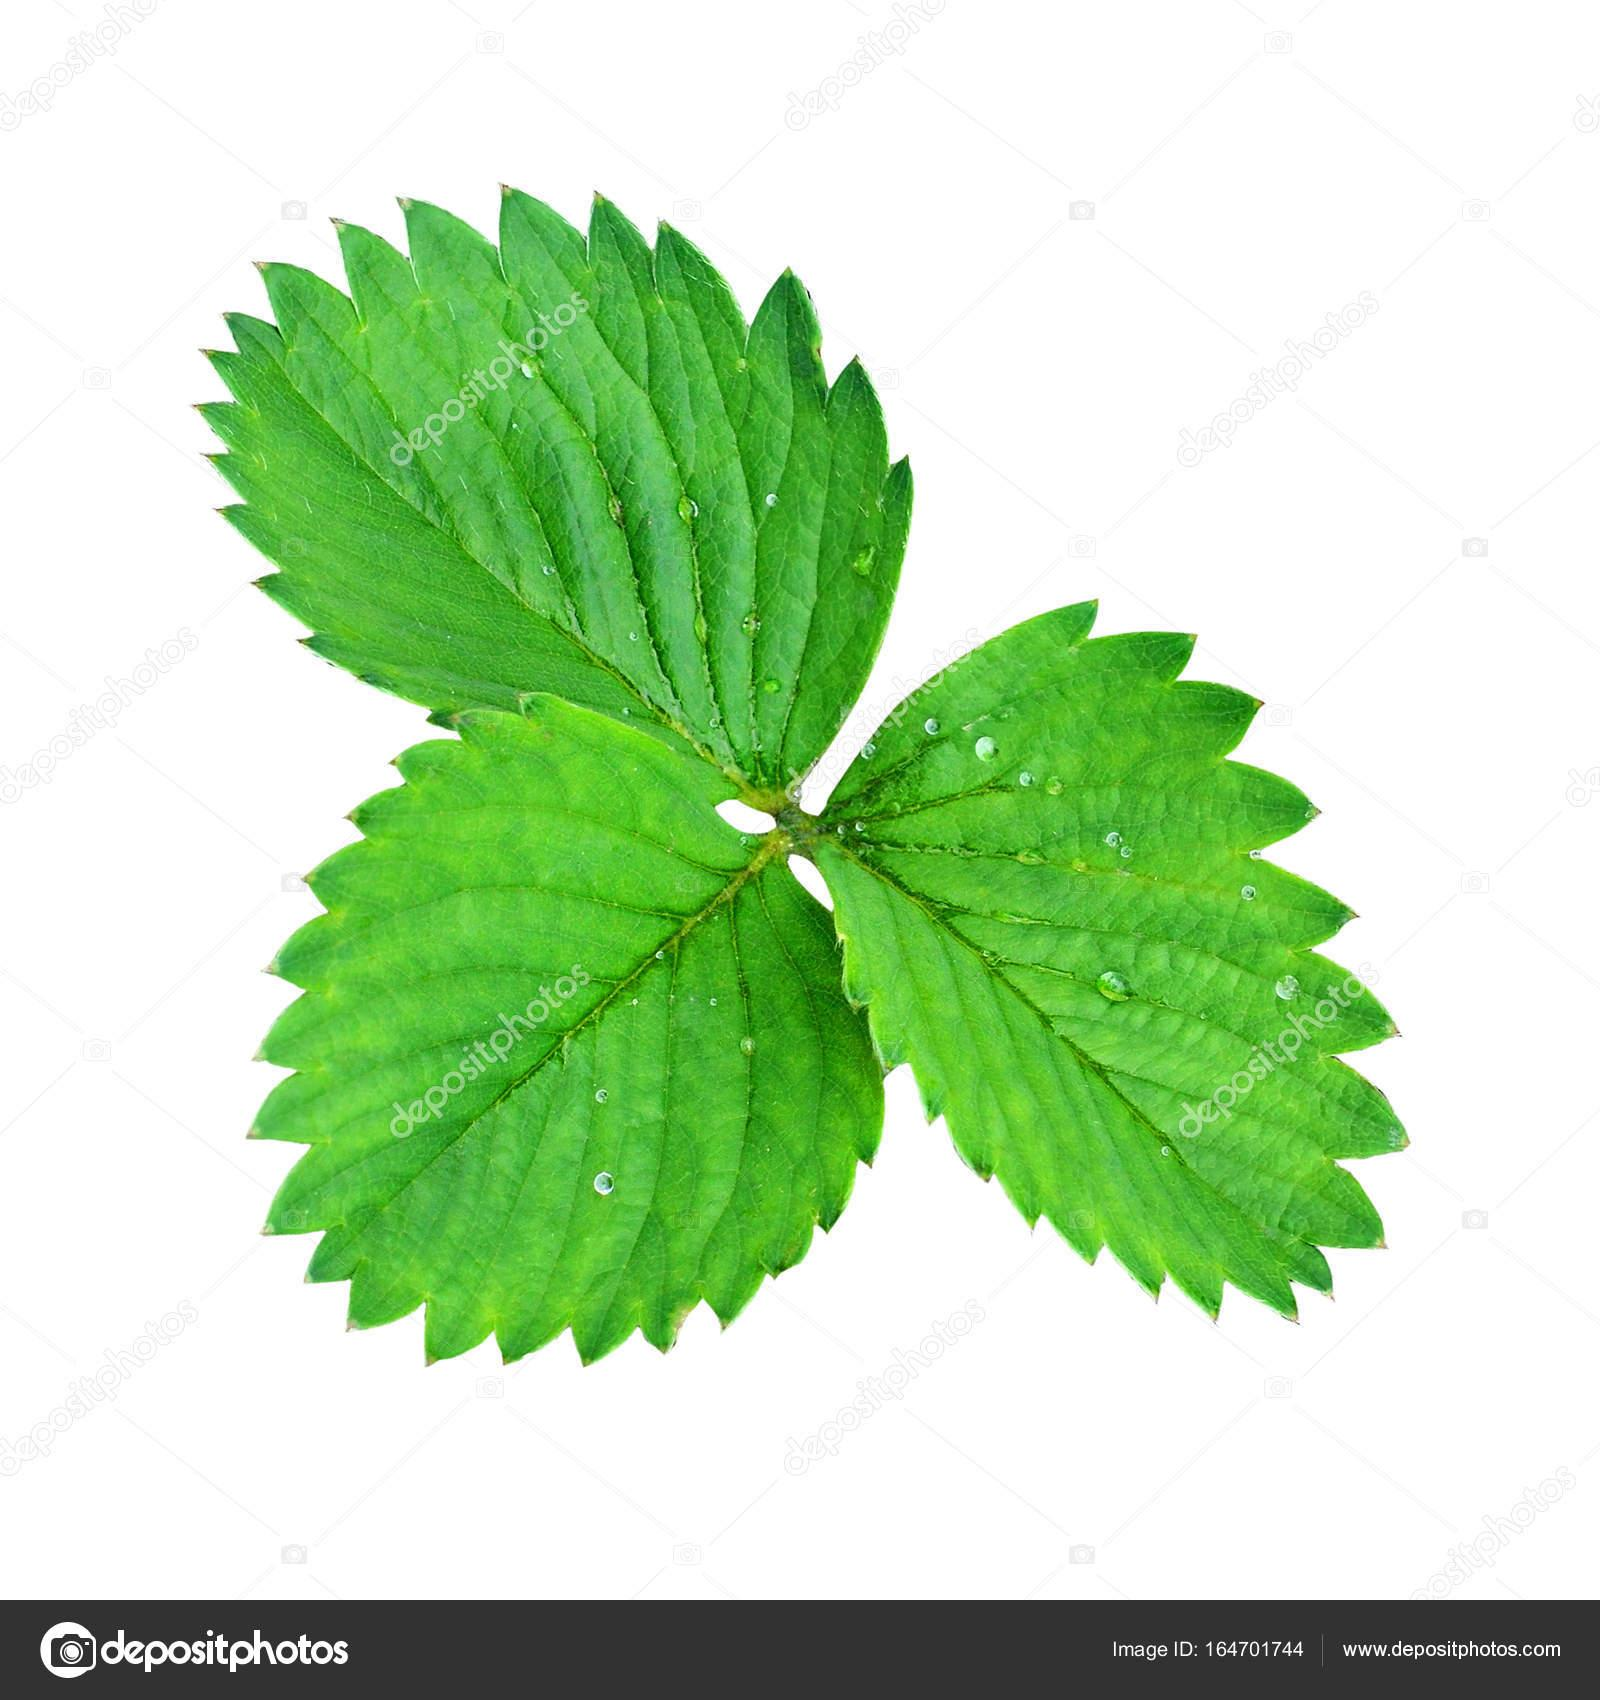Strawberry leaf: (820, 585, 1420, 1342), (200, 179, 911, 797), (257, 693, 908, 1350)
